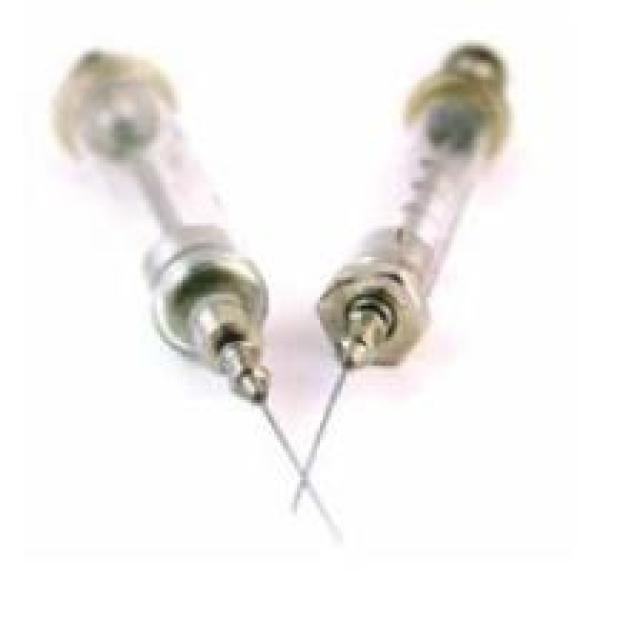syringe: (44, 57, 298, 468), (293, 45, 521, 497)
